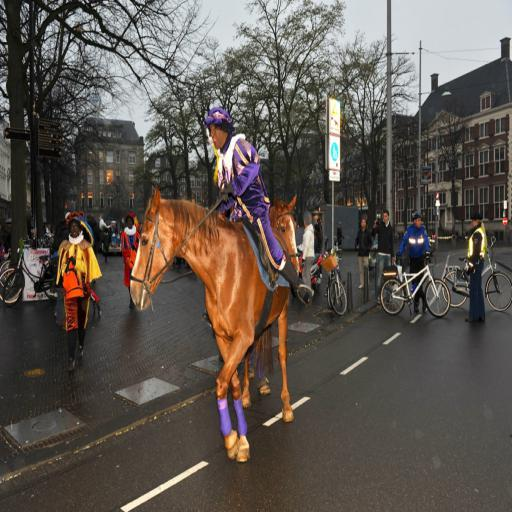Horse: (128, 186, 290, 464), (253, 188, 301, 396)
